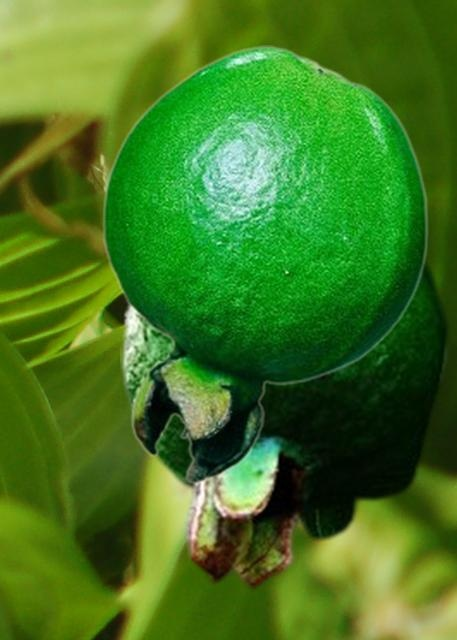guava: (101, 45, 428, 483), (120, 258, 451, 590)
